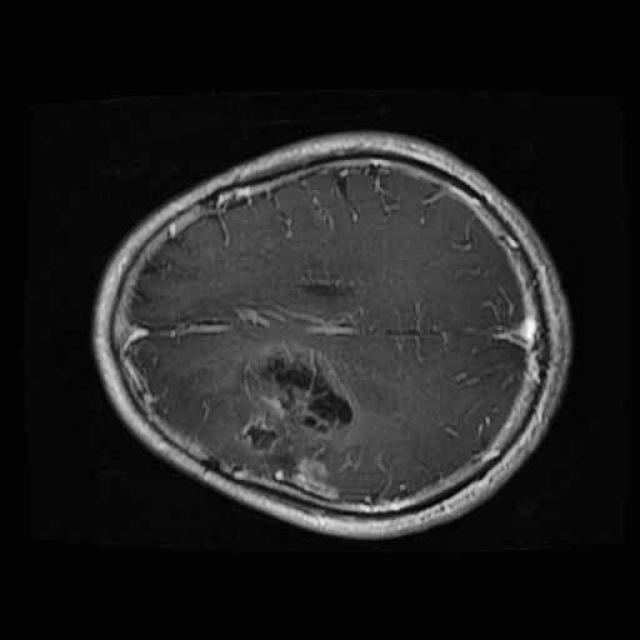Non-Tumor: (209, 322, 374, 522)
